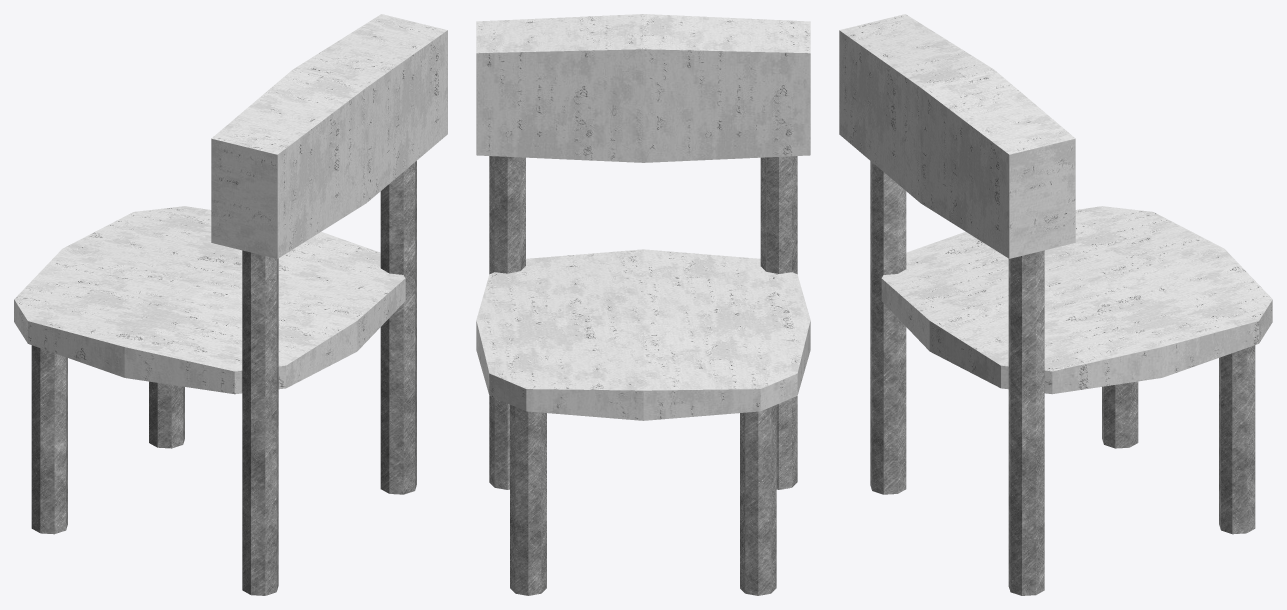
File: chair1.fbx
The picture shows the model from 3 angles, left to right: view 1: azimuth 30°, elevation 25°; view 2: azimuth 150°, elevation 25°; view 3: azimuth 270°, elevation 25°; orthographic projection.
Parts seen in each view (by area): view 1: Chair1; view 2: Chair1; view 3: Chair1.
Part boxes in pixels (x1,y1,x2,y2): Chair1: (14,14,447,595); Chair1: (476,14,810,595); Chair1: (839,14,1272,595).
Size of the model in its own units: 101 by 119 by 102.
Materials: 1 (1 with a texture image).
